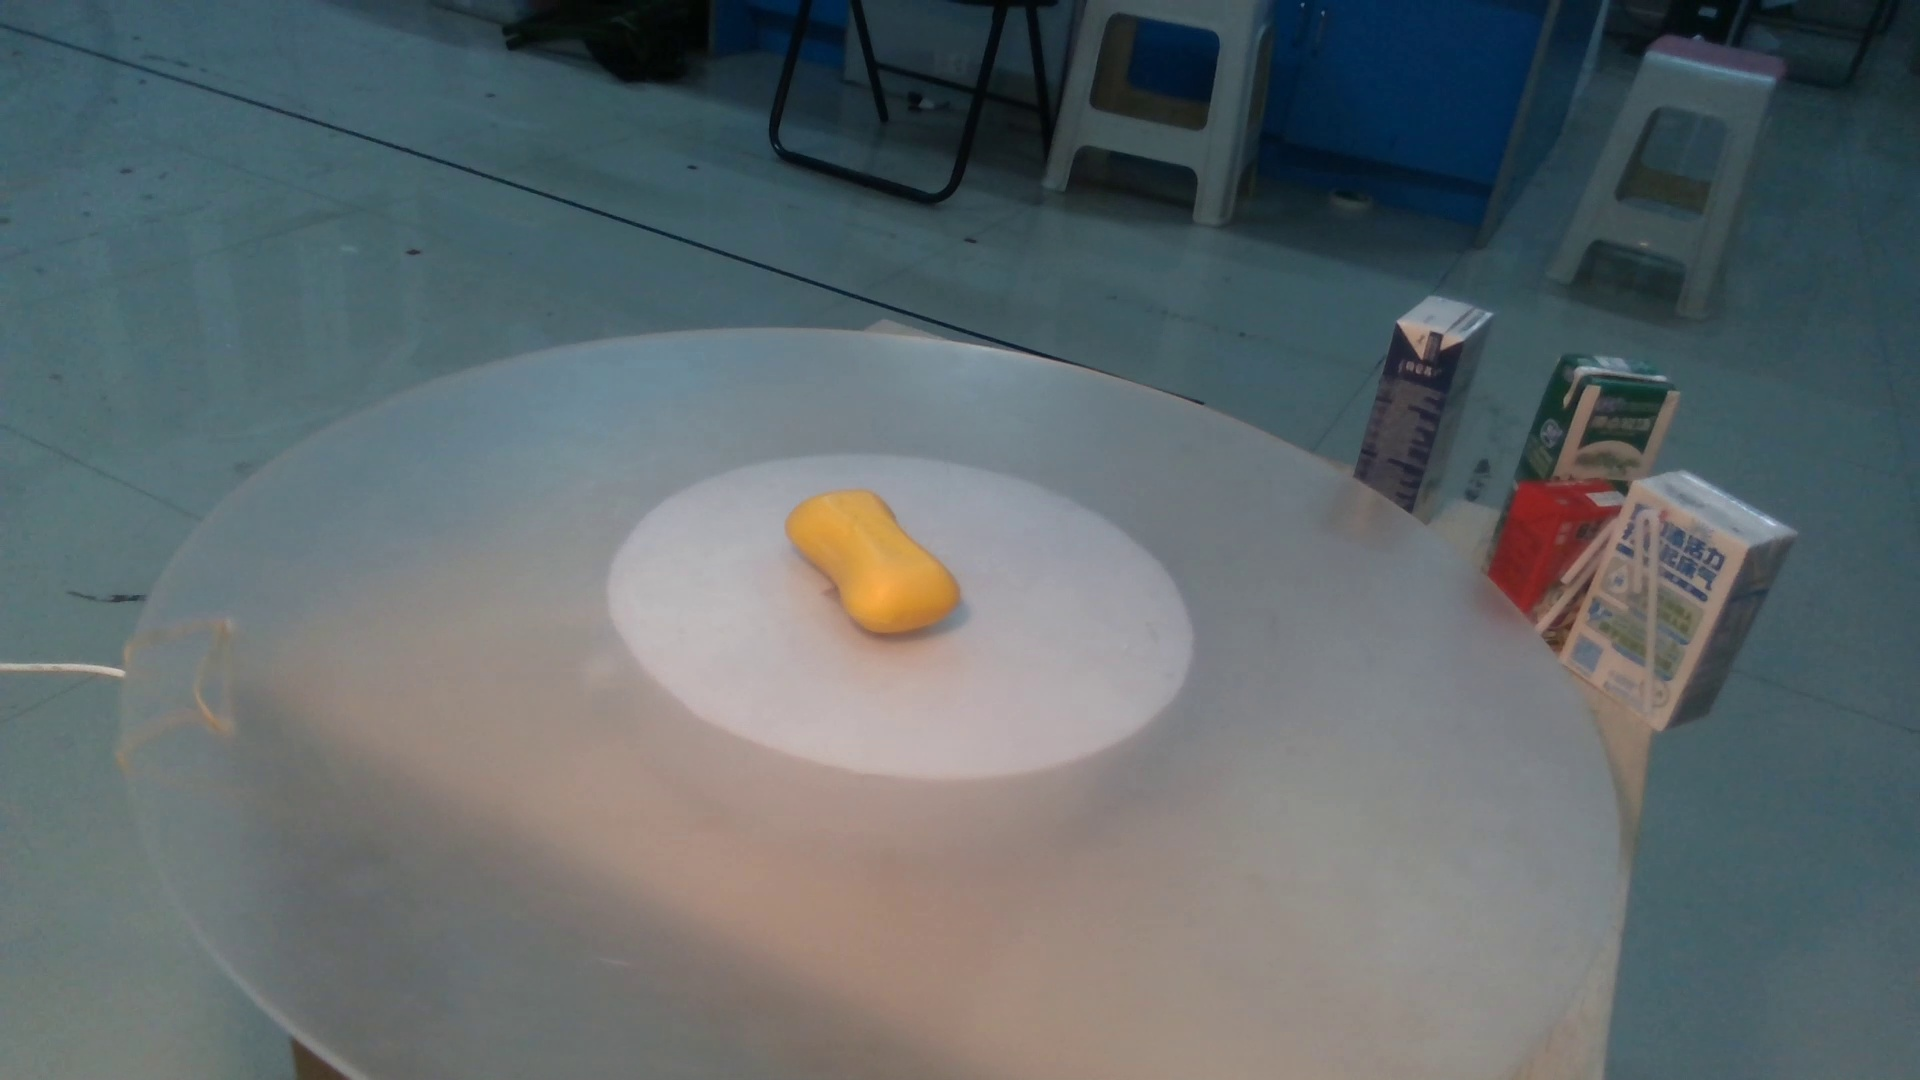CA003_1: (754, 479, 984, 666)
